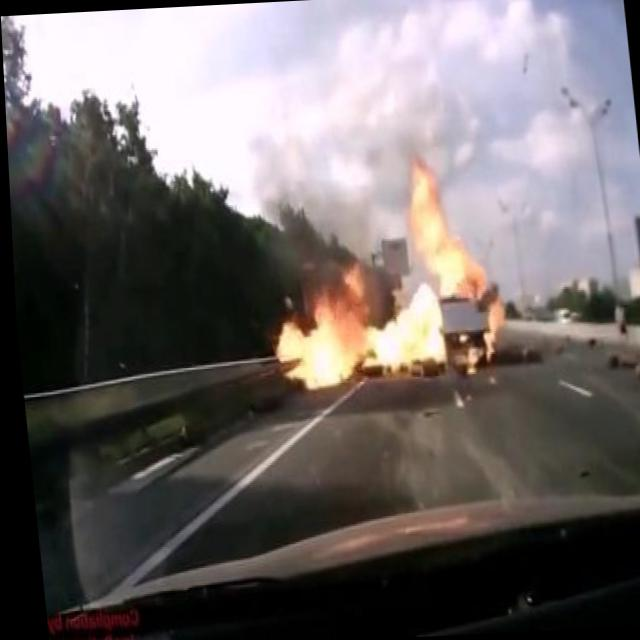fire: (253, 138, 516, 406)
